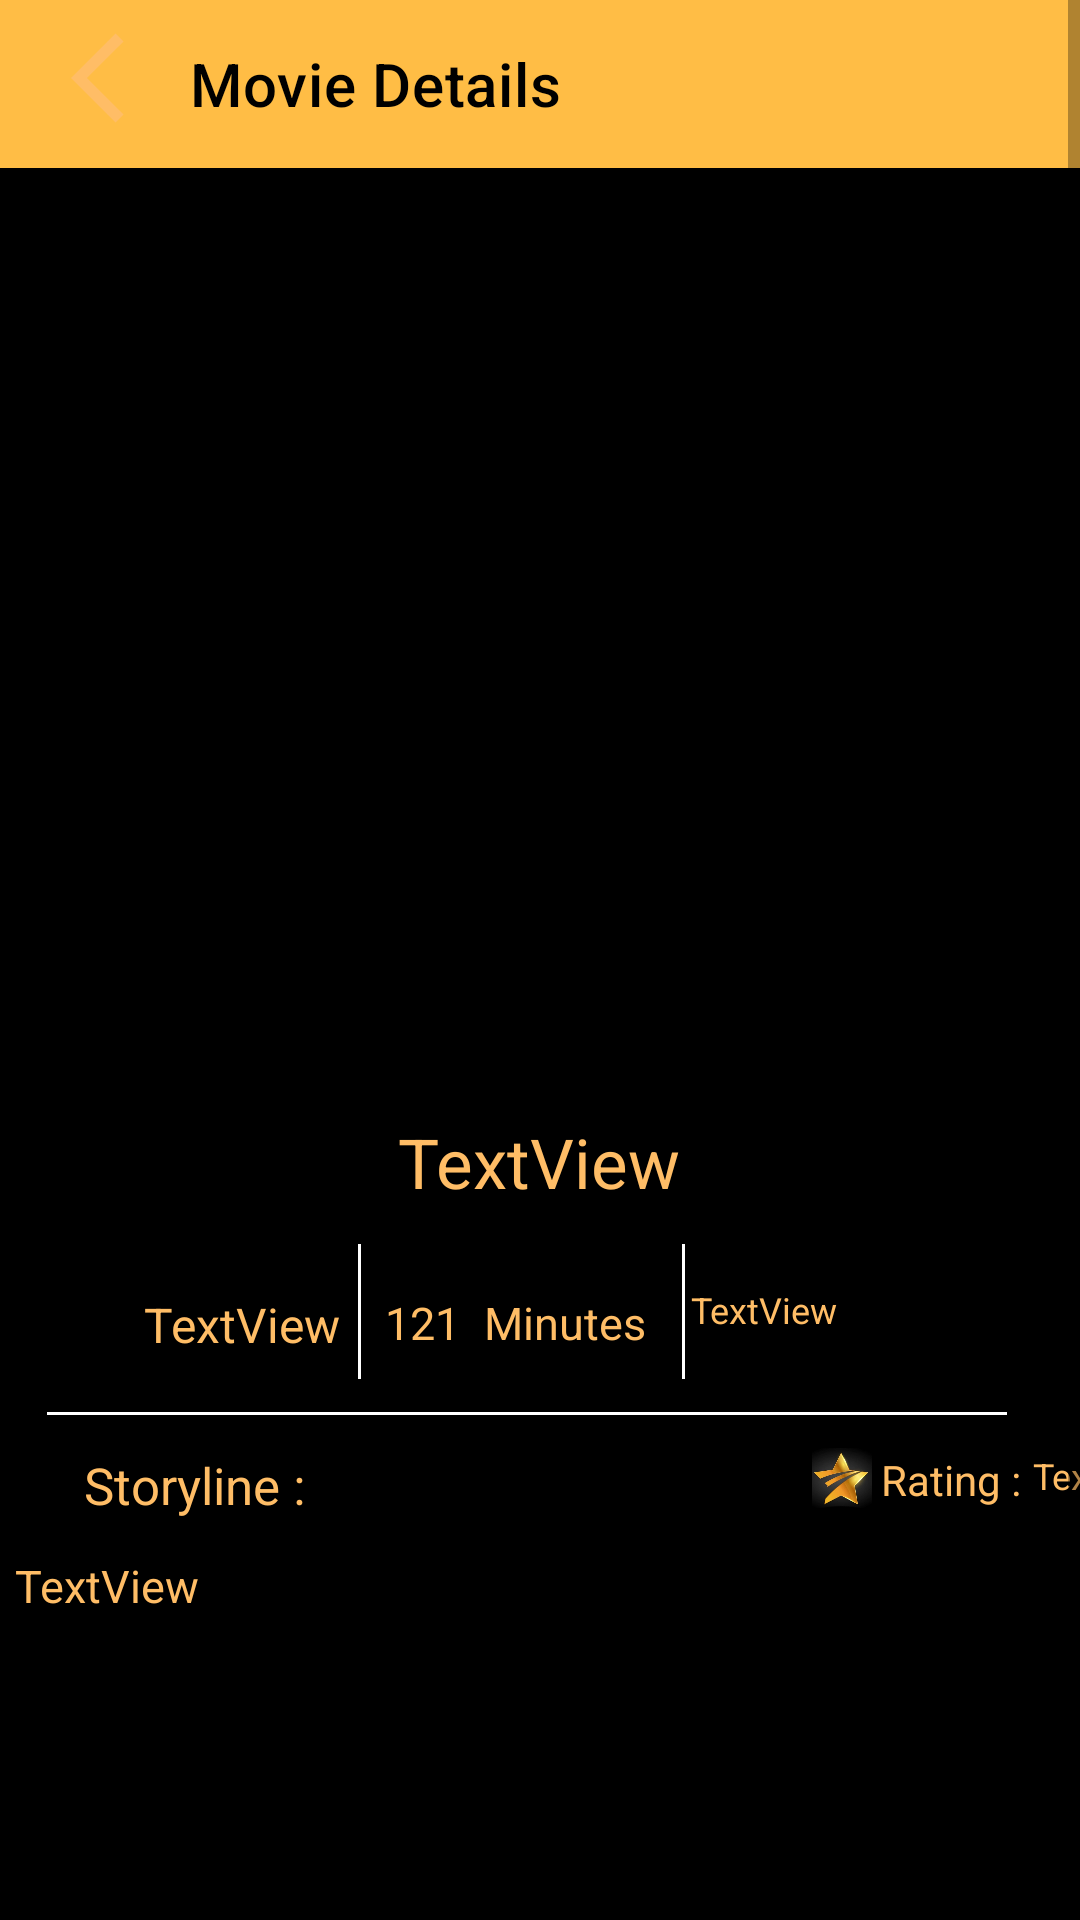

Where to tap for icons on this 1080 x 1920 app screen, as point (x, y):
arrow back: point (97, 78)
